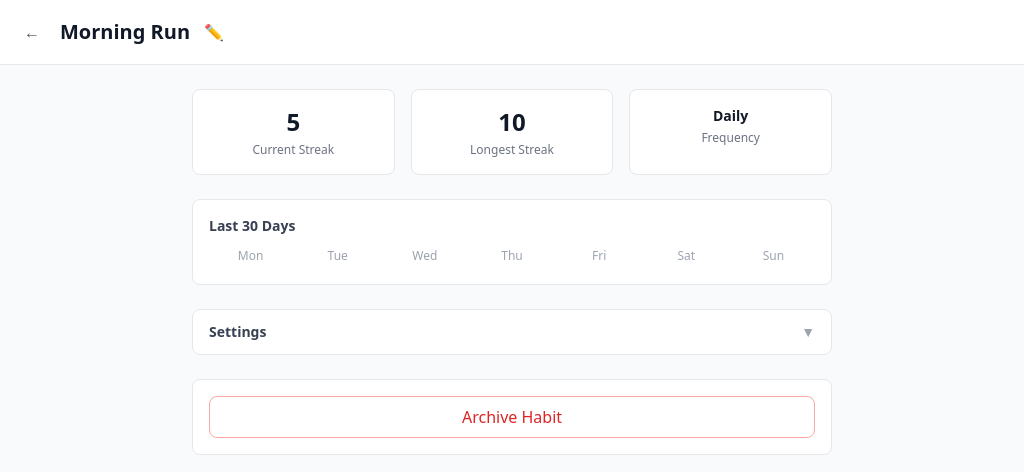
Test: HabitDetailView › Title editing › shows error when updateHabitTitleHandler rejects
Click the button named "edit habit title" at (214, 32), box [198,14,230,50]
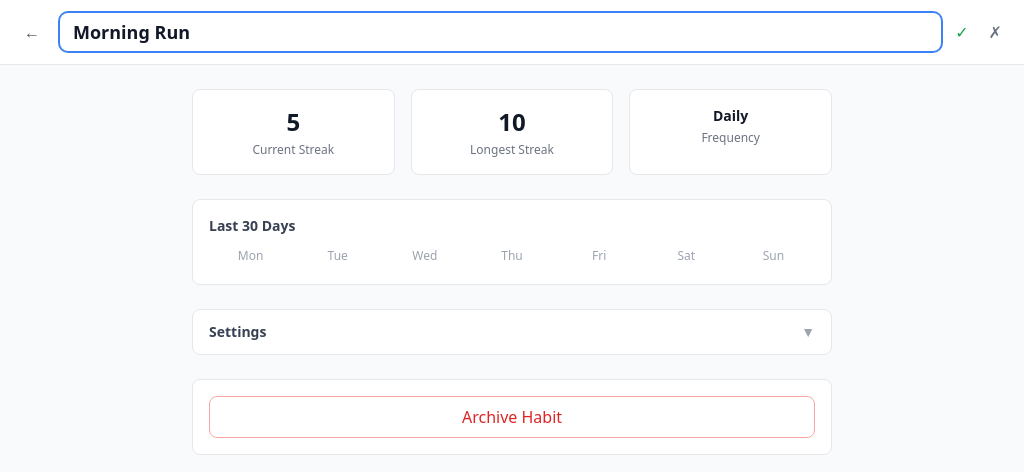
Click the button named "save title" at (962, 32), box [949,14,975,50]
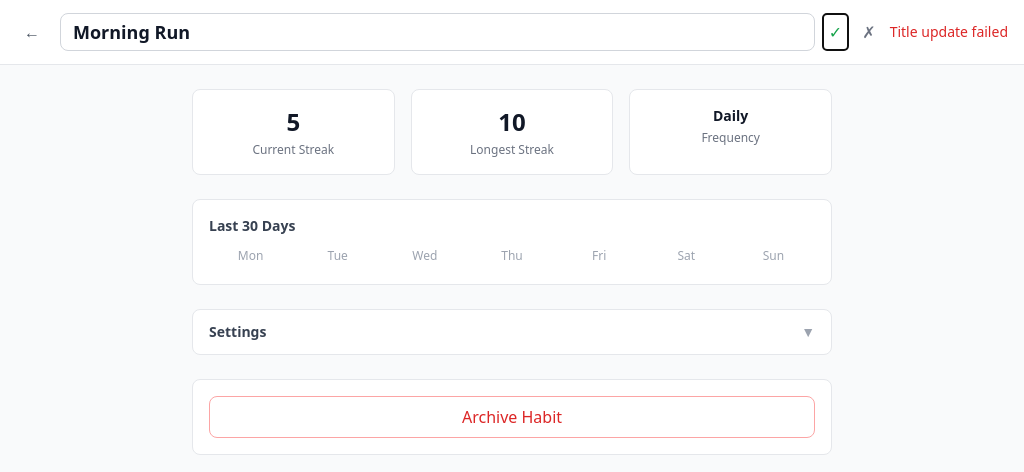
Expected: the text "Title update failed" is shown, [890,22,1008,42]
